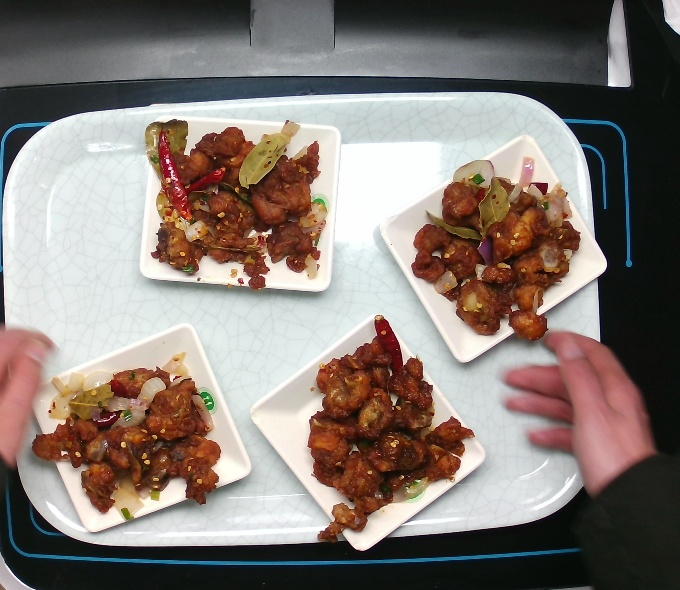wcq-LaZiJiKuai: (285, 314, 475, 545), (135, 108, 333, 297), (397, 154, 595, 343), (30, 349, 226, 515)
